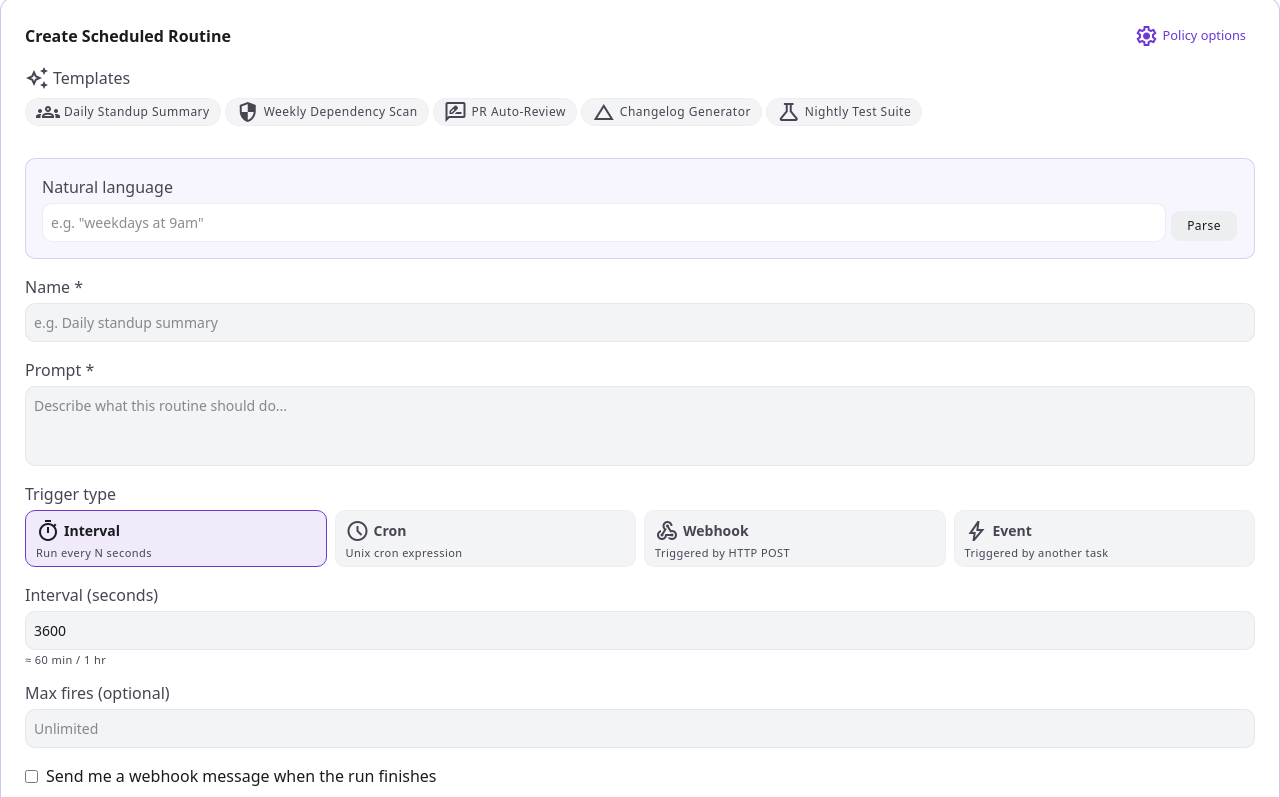
ScheduleForm review step (W3-1) › does not create anything until Activate is pressed
Type "Daily" into the field with placeholder "e.g. Daily standup summary" at (640, 322), box [25,303,1255,342]
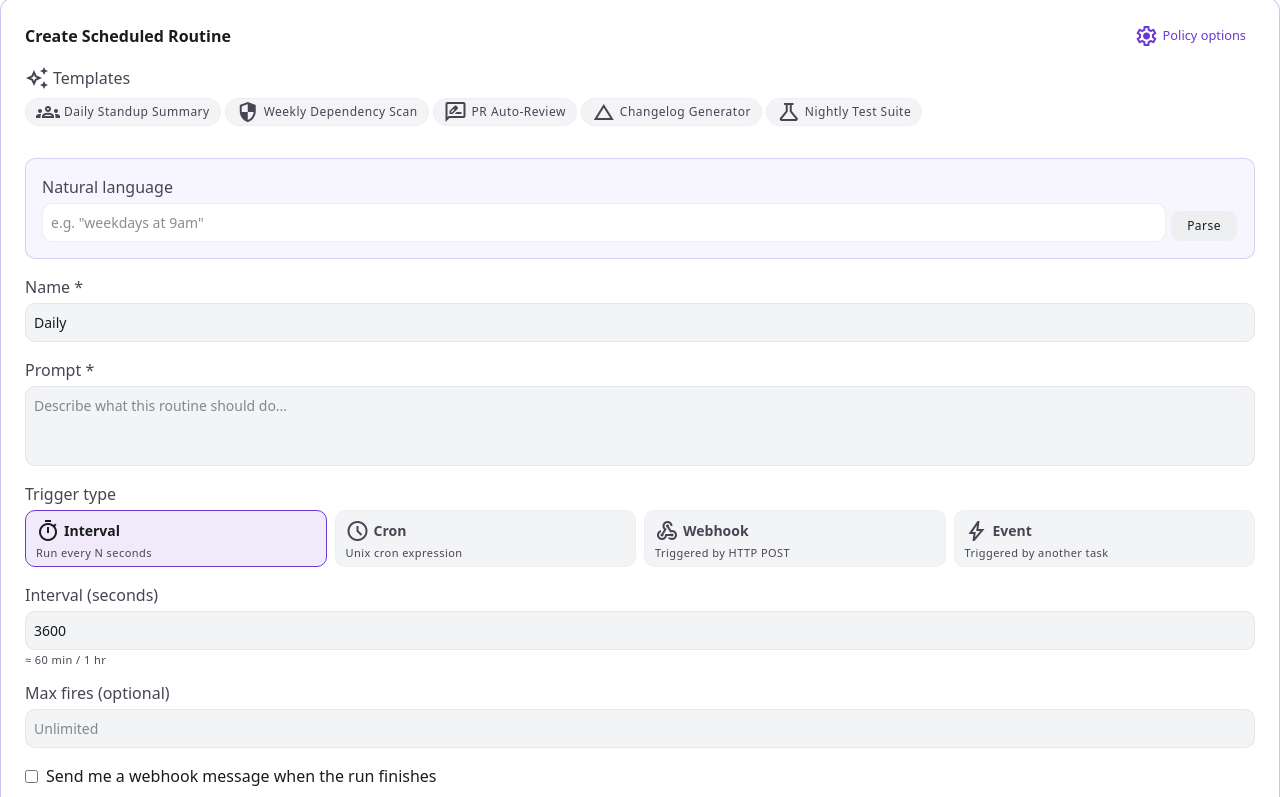
Type "Run" into the text box with placeholder "Describe what this routine should do..." at (640, 426), box [25,386,1255,466]
(page scrolled)
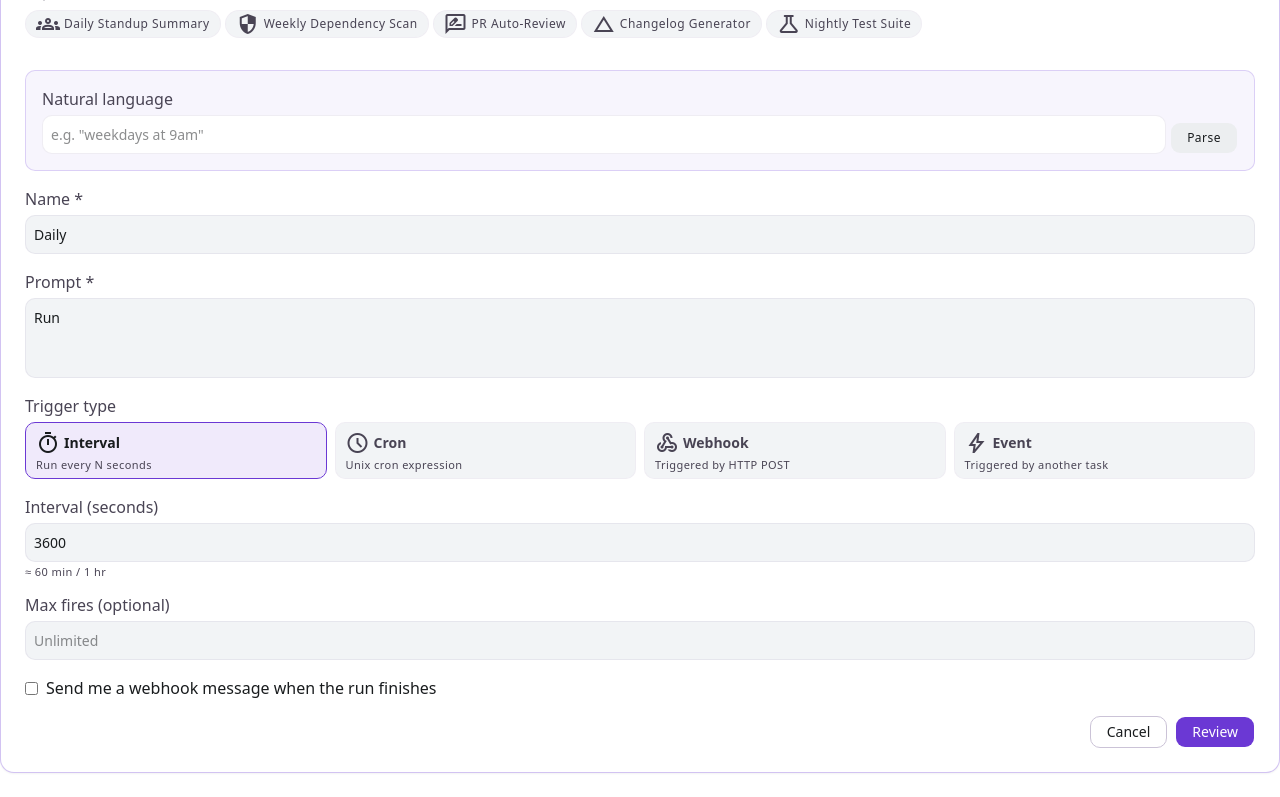
Click the button "Review" at (1215, 732), box [1175,716,1255,748]
(page scrolled)
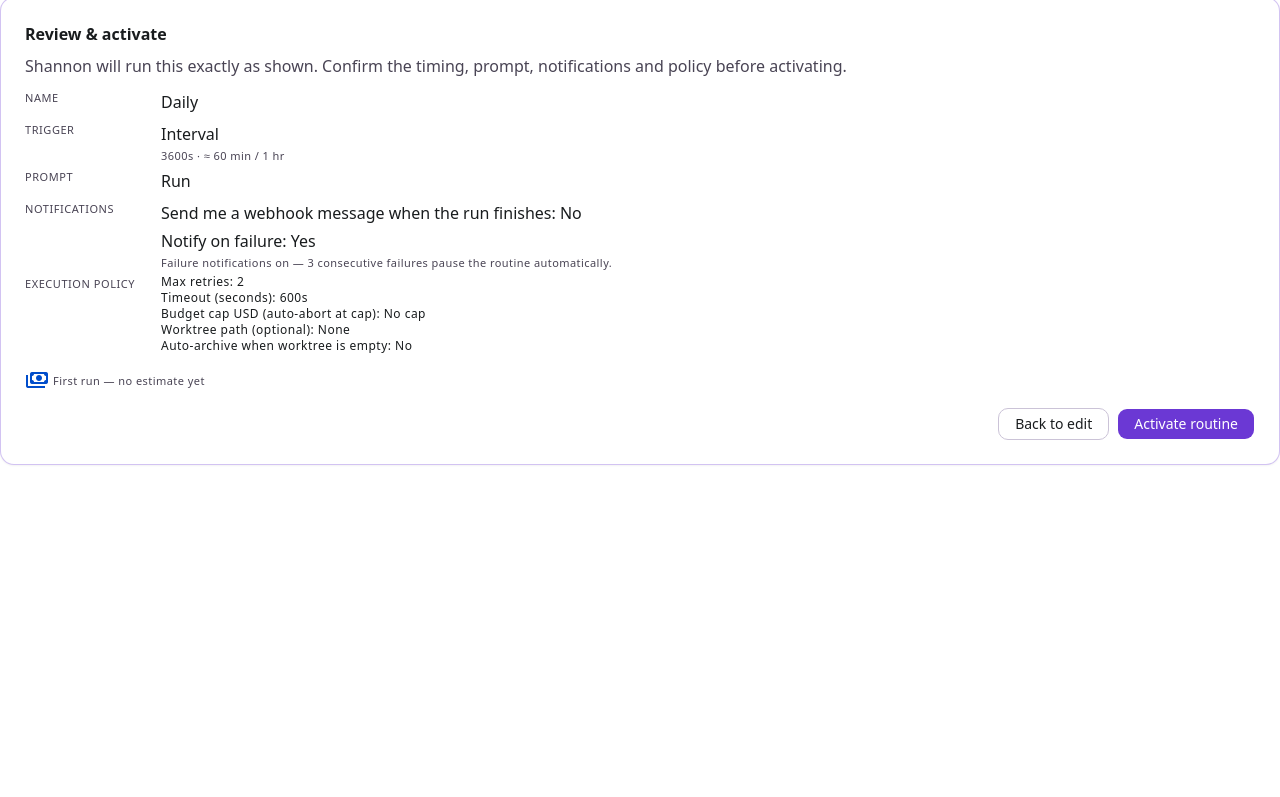
Now the element with test id "schedule-review" is shown, box [25,23,847,354]
